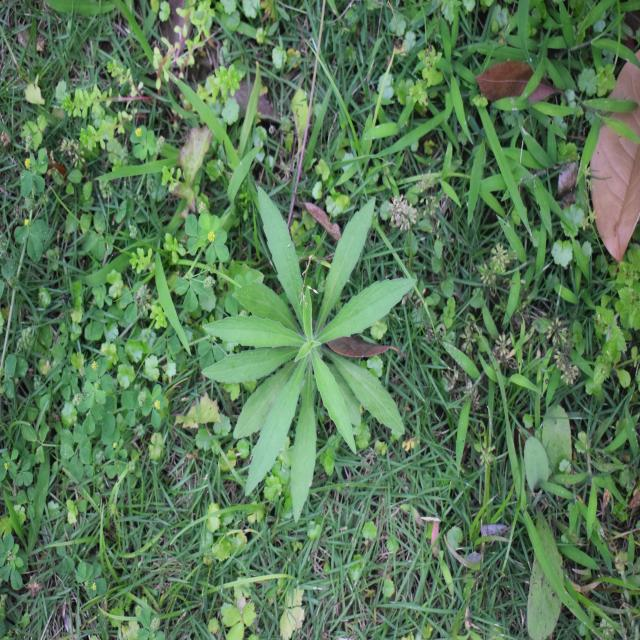horseweed: (215, 205, 416, 499)
